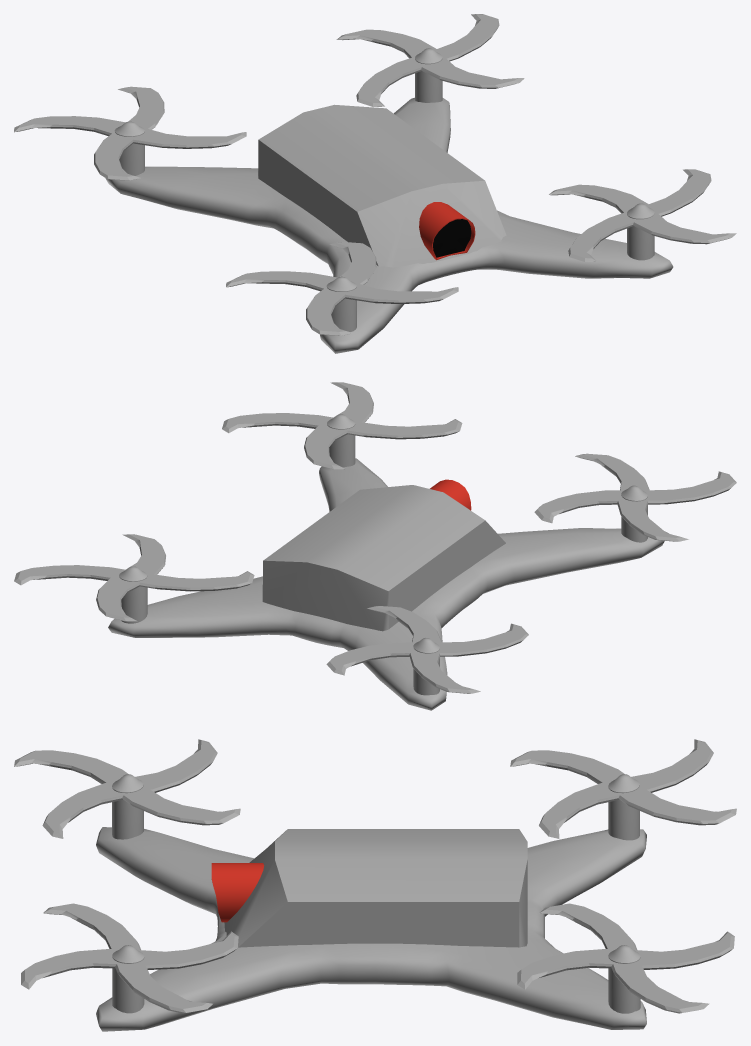
File: RacingDrone (1).fbx
3 views of the same model, one above another, from view 1: azimuth 30°, elevation 25°; view 2: azimuth 150°, elevation 25°; view 3: azimuth 270°, elevation 25° (orthographic). The views are drawn at different scales.
Visible parts, largest first — view 1: CameraBox, DroneBody, pCube4654 (×4), pCube4653 (×4), pCube4655 (×4), pCube18 (×4), pCylinder2 (×4), Camera; view 2: CameraBox, DroneBody, pCube4653 (×4), pCube18 (×4), pCube4655 (×4), pCube4654 (×4), pCylinder2 (×4), Camera; view 3: DroneBody, CameraBox, pCube18 (×4), pCube4653 (×4), pCube4654 (×4), pCube4655 (×4), pCylinder2 (×4), Camera.
Boxes of the visible parts, x1,y1,x2,y2 form: CameraBox: (258, 104, 506, 267); DroneBody: (105, 97, 673, 353); pCube4654 (×4): (125, 56, 736, 303); pCube4653 (×4): (94, 57, 640, 335); pCube4655 (×4): (14, 29, 651, 291); pCube18 (×4): (118, 14, 711, 285); pCylinder2 (×4): (114, 48, 654, 331); Camera: (419, 202, 475, 260); CameraBox: (262, 485, 505, 631); DroneBody: (108, 458, 664, 710); pCube4653 (×4): (137, 419, 736, 656); pCube18 (×4): (14, 413, 624, 675); pCube4655 (×4): (96, 422, 688, 693); pCube4654 (×4): (122, 382, 649, 647); pCylinder2 (×4): (119, 414, 647, 695); Camera: (430, 479, 471, 510); DroneBody: (96, 827, 646, 1031); CameraBox: (224, 829, 527, 947); pCube18 (×4): (115, 785, 736, 1013); pCube4653 (×4): (14, 750, 637, 952); pCube4654 (×4): (21, 781, 619, 989); pCube4655 (×4): (135, 739, 734, 969); pCylinder2 (×4): (112, 774, 640, 1013); Camera: (211, 863, 264, 922).
Bounding box in the file's own units: 3.75 × 0.6466 × 4.18.
